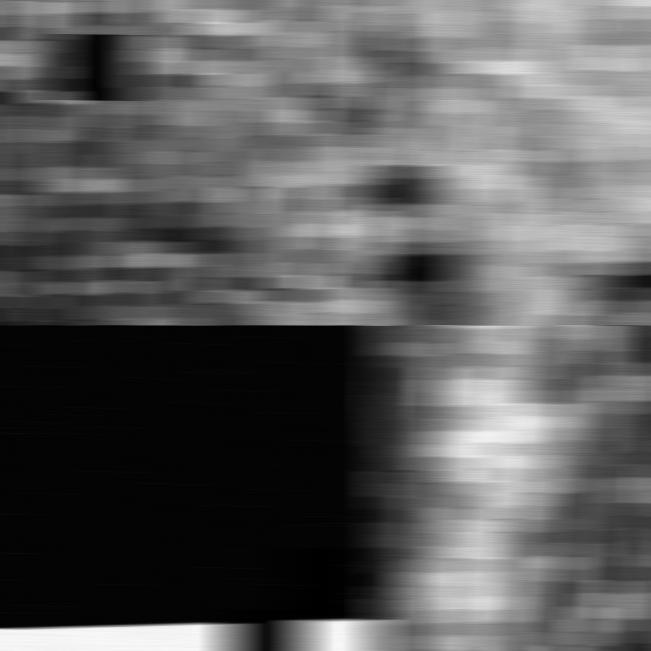Airbag: (0, 0, 385, 325), (368, 325, 651, 651), (368, 0, 651, 325)
